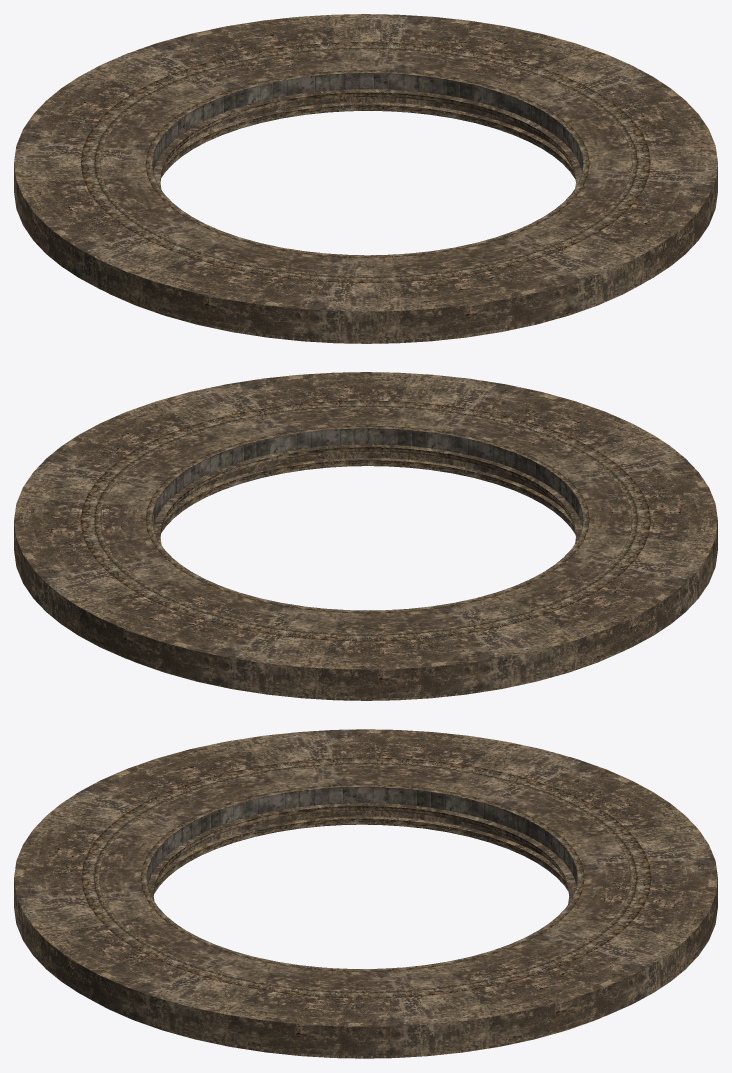
File: materials_5_floor_donut_7.fbx
The picture shows the model from 3 angles, top to bottom: view 1: azimuth 30°, elevation 25°; view 2: azimuth 150°, elevation 25°; view 3: azimuth 270°, elevation 25°; orthographic projection.
Parts seen in each view (by area): view 1: materials_5_floor_donut_7; view 2: materials_5_floor_donut_7; view 3: materials_5_floor_donut_7.
Part boxes in pixels (x1,y1,x2,y2): materials_5_floor_donut_7: (14,14,717,343); materials_5_floor_donut_7: (14,372,717,700); materials_5_floor_donut_7: (14,729,717,1058).
Size of the model in its own units: 1080 by 62.98 by 1080.
